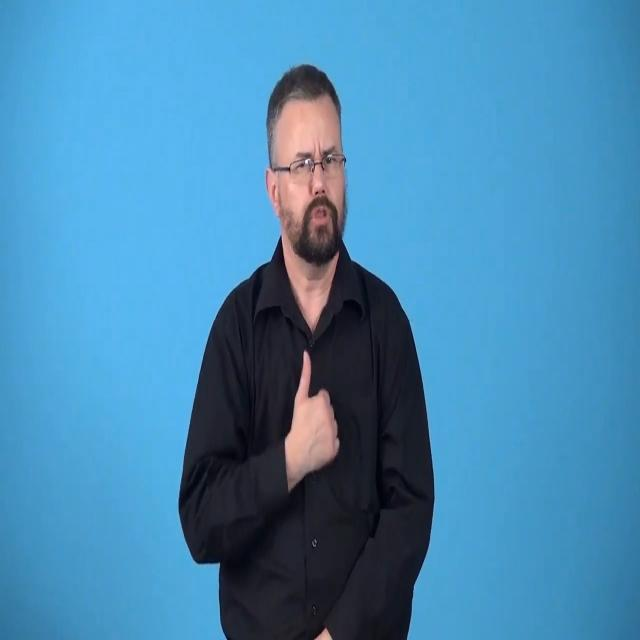repeat: (280, 340, 347, 503)
